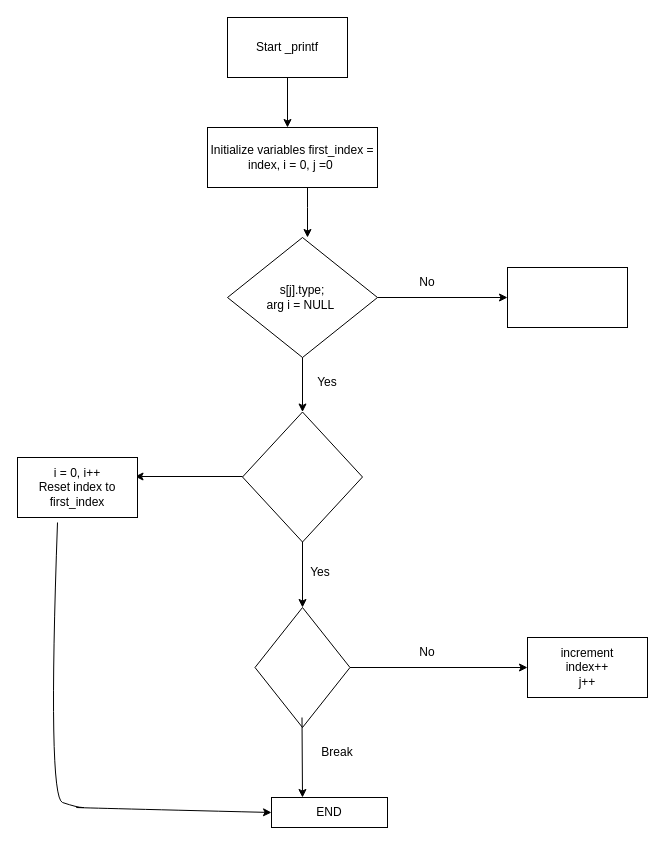
This 665x845 diagram has some shape labels left out. Here are the shapes that lost their labels. From the top down, the centre of each, then its label:
point 567,297: Return j
point 302,476: SLindex = pr[j].type arg[i]
point 302,667: pr[].type arg()=1 "\0"
